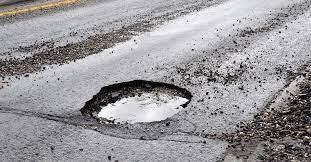pothole: (78, 77, 194, 124)
